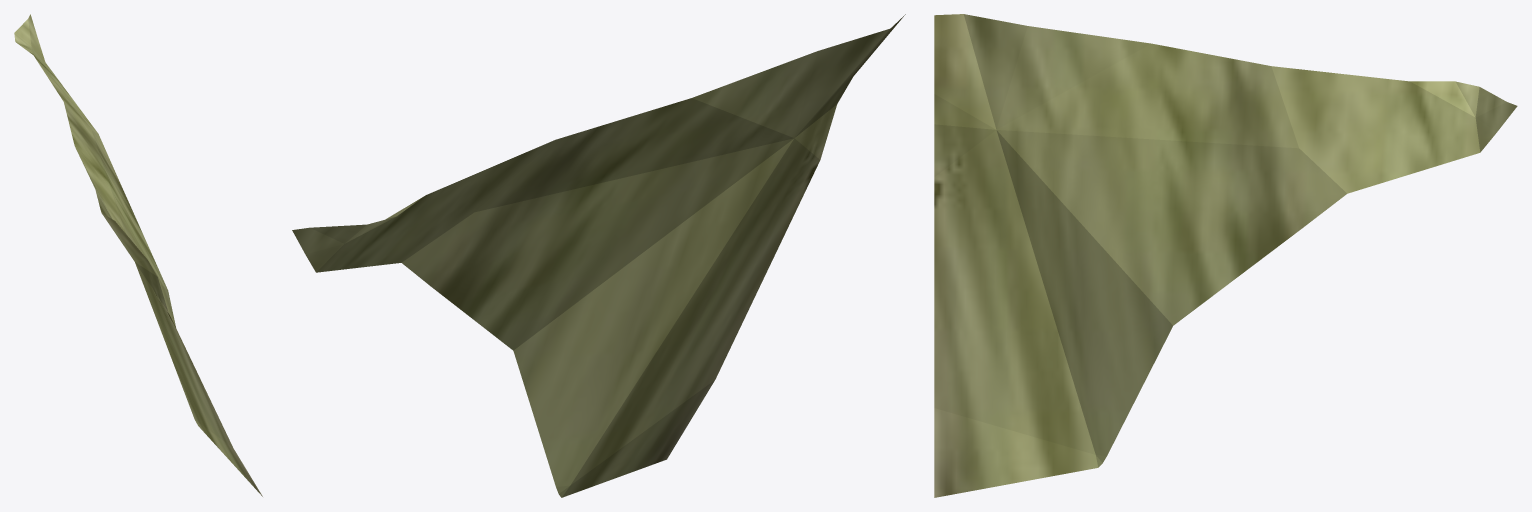
3 renders of one model, left to right at view 1: azimuth 30°, elevation 25°; view 2: azimuth 150°, elevation 25°; view 3: azimuth 270°, elevation 25°, orthographic. The views are drawn at different scales.
Bounding box in the file's own units: 0.4873 × 0.9685 × 1.31.
Materials: 1 (1 with a texture image).
